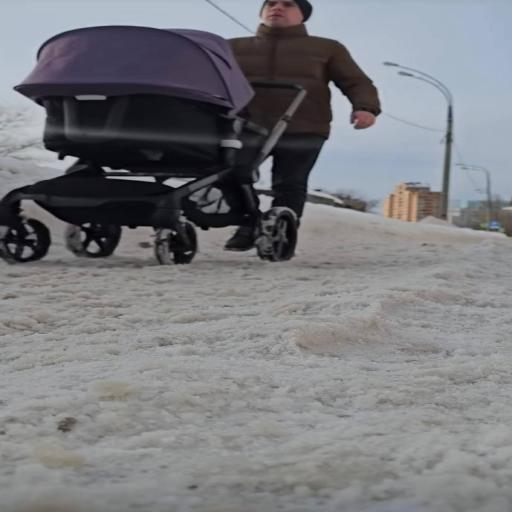crosswalk: (224, 0, 380, 251)
people: (0, 26, 306, 264)
